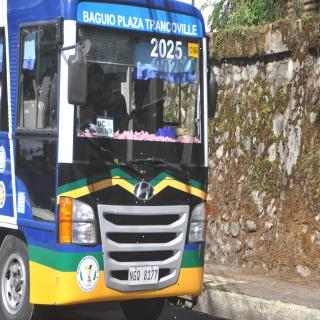license: (129, 266, 160, 286)
